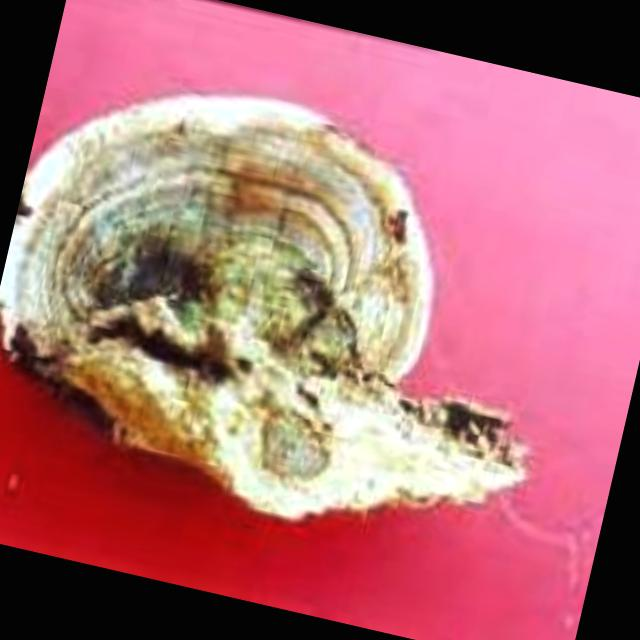ganoderma: (1, 44, 474, 454)
